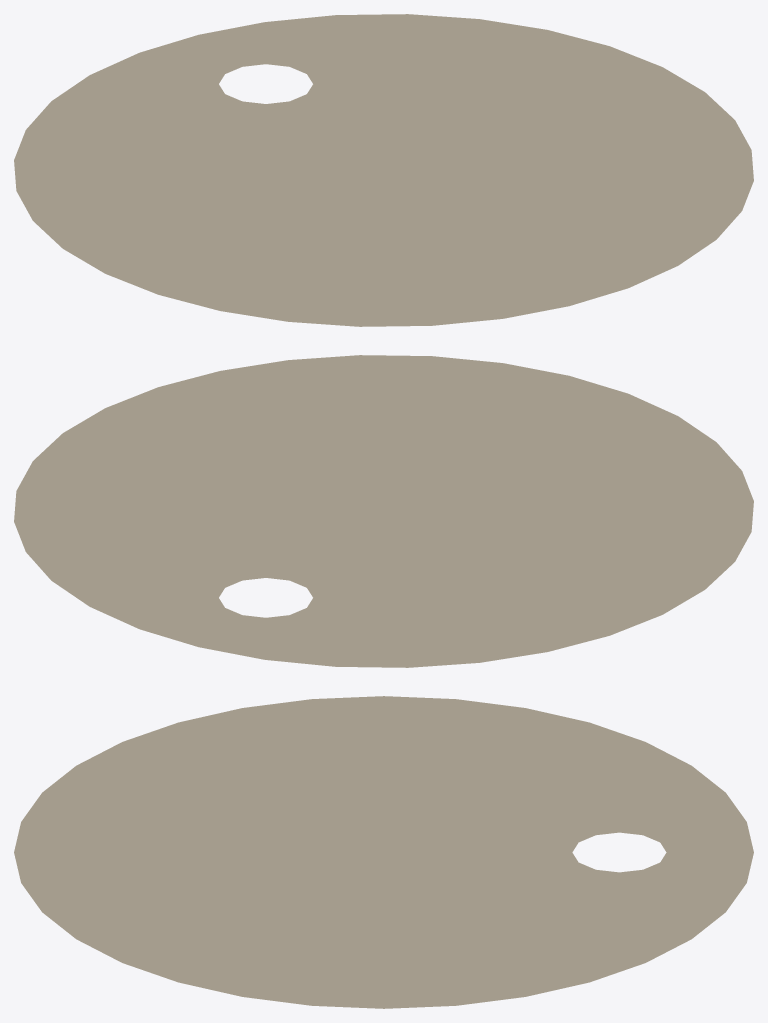
The model's file is original-33.obj.
The picture shows the model from 3 angles, top to bottom: view 1: azimuth 30°, elevation 25°; view 2: azimuth 150°, elevation 25°; view 3: azimuth 270°, elevation 25°; orthographic projection.
Visible parts, largest first — view 1: mesh30/mesh30-geometry#mesh30-geometry; view 2: mesh30/mesh30-geometry#mesh30-geometry; view 3: mesh30/mesh30-geometry#mesh30-geometry.
Boxes of the visible parts, <box> form: mesh30/mesh30-geometry#mesh30-geometry: <box>14,14,753,326</box>; mesh30/mesh30-geometry#mesh30-geometry: <box>14,355,753,667</box>; mesh30/mesh30-geometry#mesh30-geometry: <box>14,696,753,1008</box>.
Bounding box in the file's own units: 0.4935 × 0 × 0.4935.
